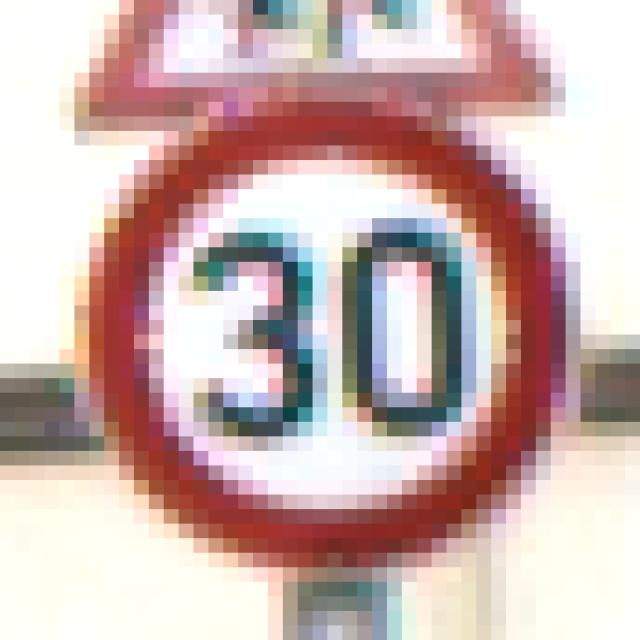Speed Limit -30-: (67, 65, 558, 560)
